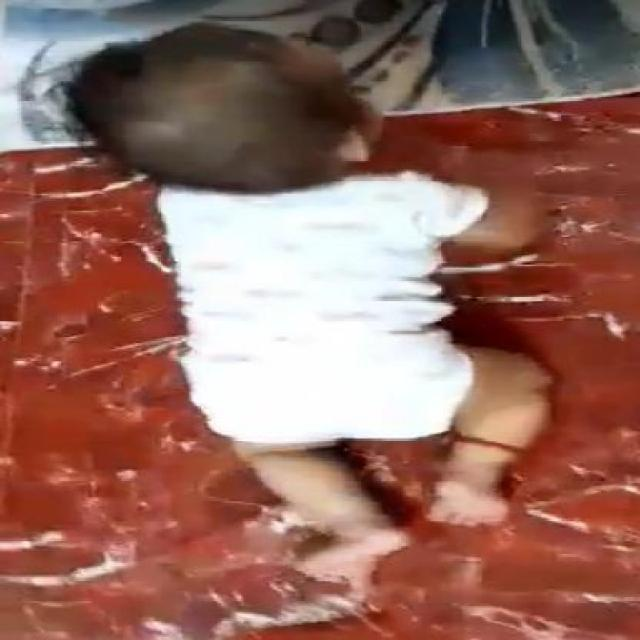child: (63, 20, 554, 582)
